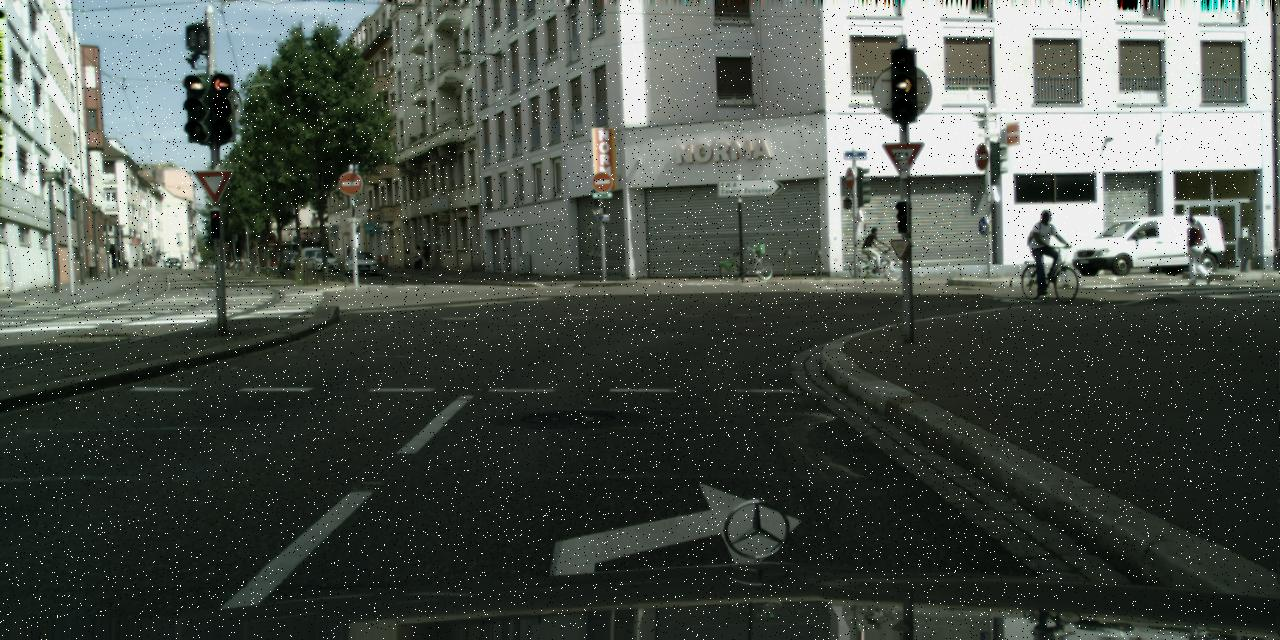ped: (1031, 209, 1063, 289), (1182, 216, 1210, 286), (866, 227, 884, 272), (419, 240, 432, 270), (412, 244, 422, 270), (347, 244, 356, 267)
